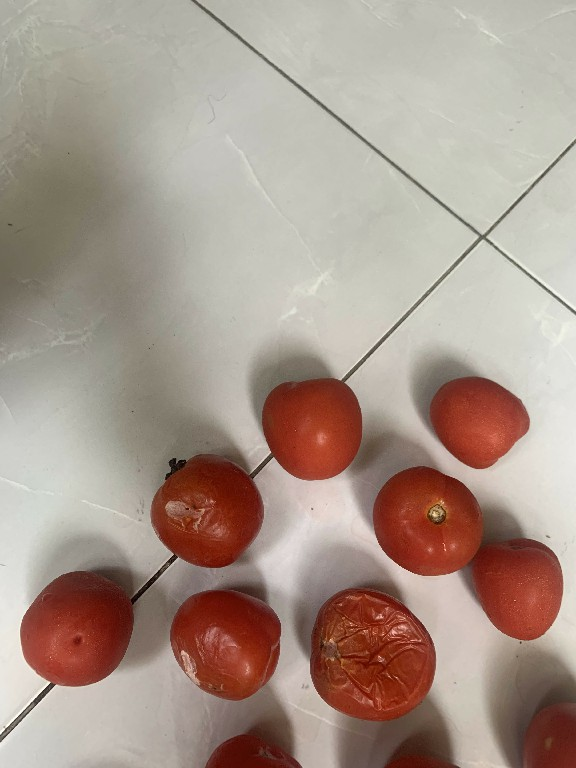NG: (304, 582, 433, 721), (163, 585, 293, 708), (147, 449, 268, 577)
OK: (15, 567, 136, 695), (369, 459, 483, 578), (255, 367, 365, 490), (468, 527, 566, 648), (414, 372, 531, 470)
